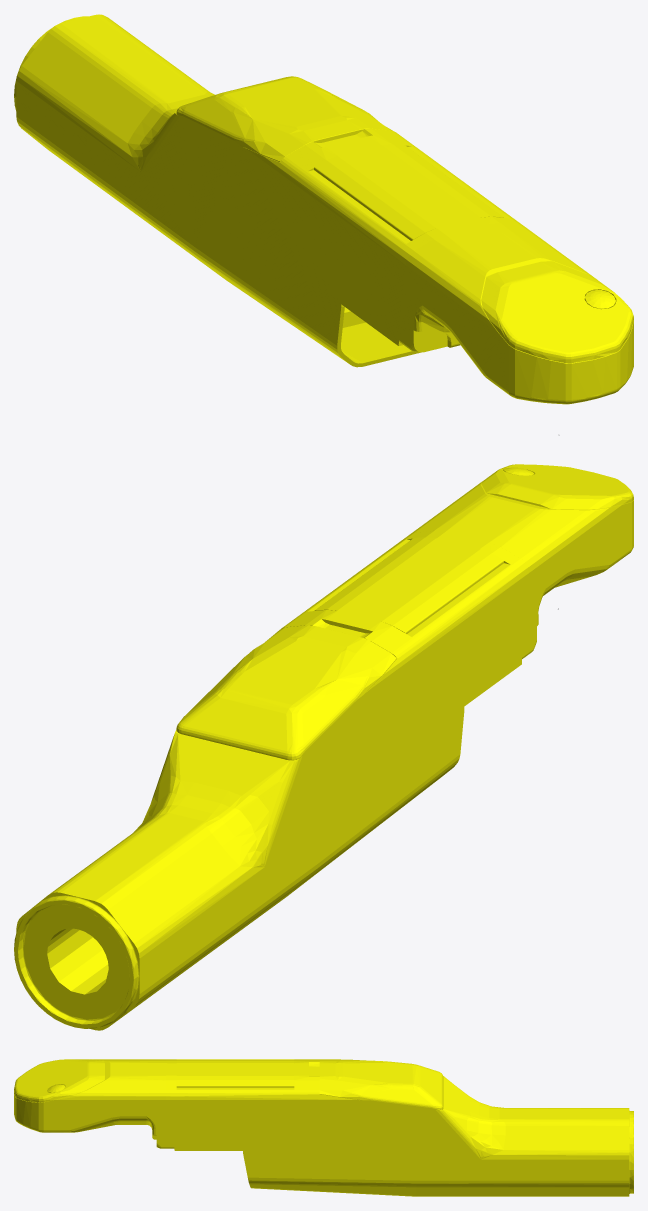
The picture shows the model from 3 angles, top to bottom: view 1: azimuth 30°, elevation 25°; view 2: azimuth 150°, elevation 25°; view 3: azimuth 270°, elevation 25°; orthographic projection. The views are drawn at different scales.
Parts seen in each view (by area): view 1: node; view 2: node; view 3: node.
Part boxes in pixels (left/top/right/bottom): node: left=14, top=14, right=633, bottom=435; node: left=14, top=464, right=633, bottom=1030; node: left=14, top=1059, right=633, bottom=1196.
Bounding box in the file's own units: 100 × 158 × 732.
